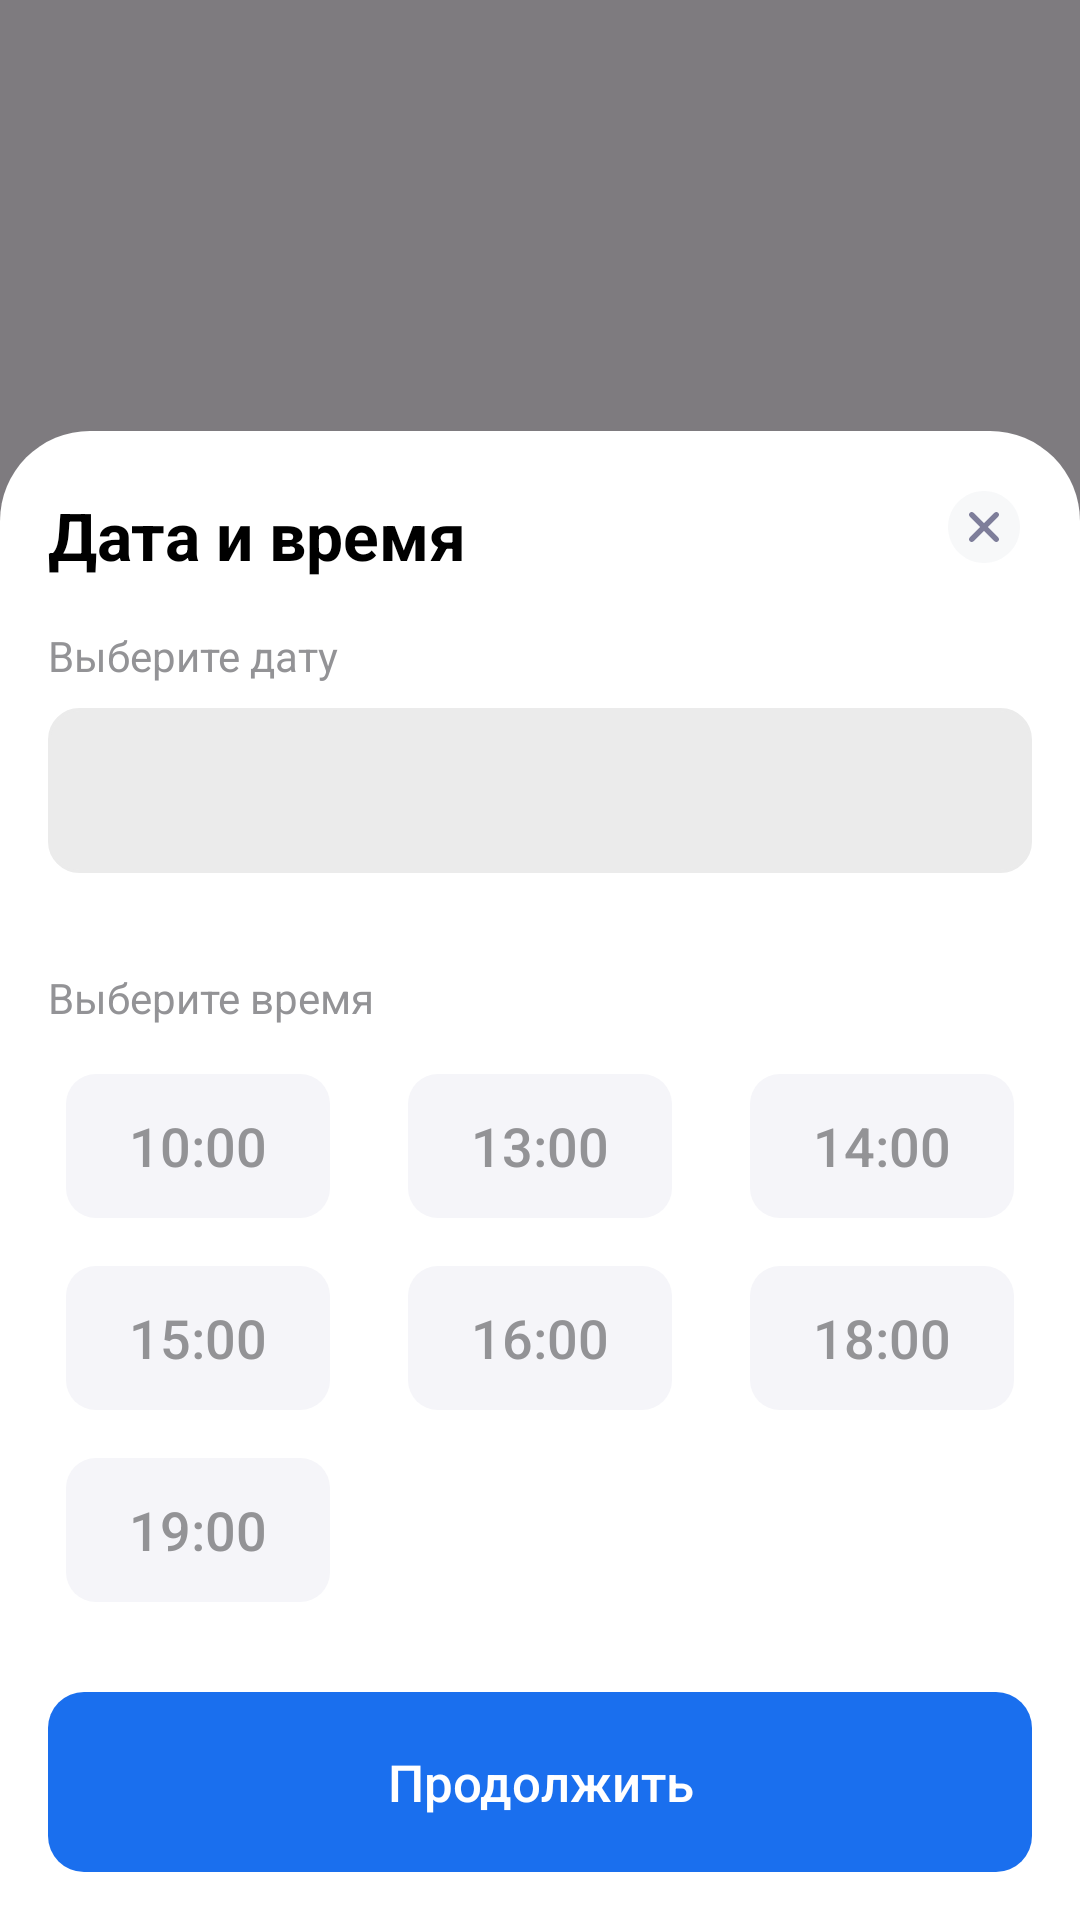

Locate icon controls on the screen. Image size 1080 x 1920, boxes as (x1, y1, x2, y2).
close: (969, 512, 999, 542)
